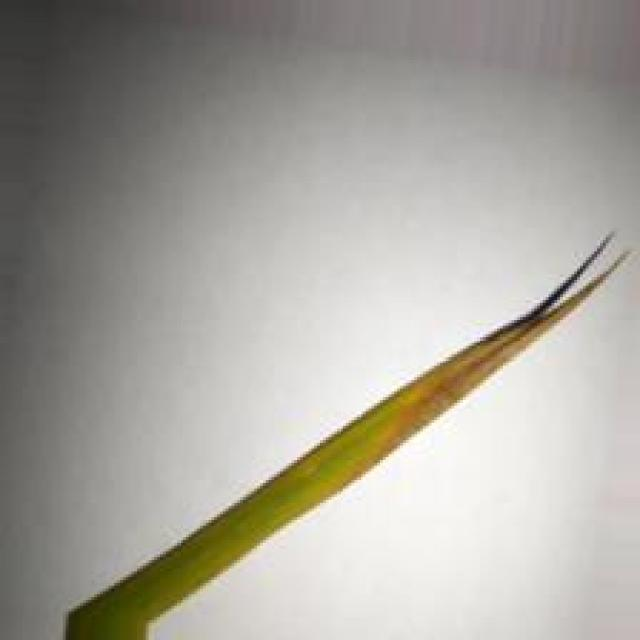Narrow_Brown_Leaf_Spot: (350, 253, 621, 466)
